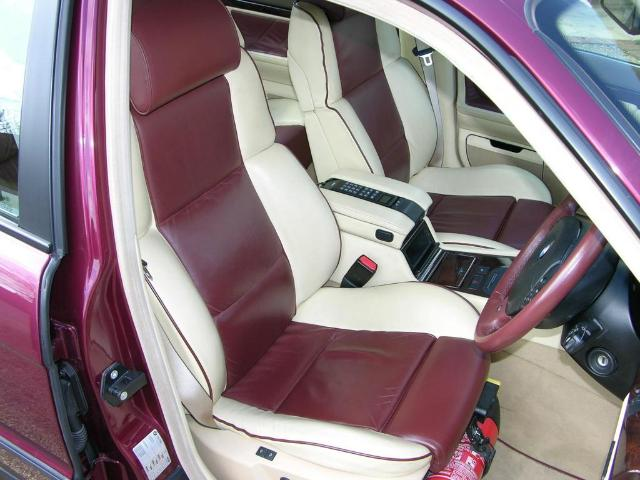Seatbelt: (414, 34, 444, 166)
